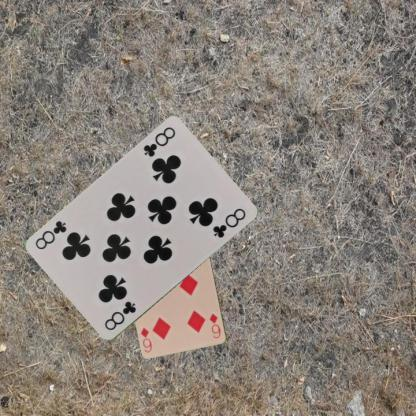6d: (207, 311, 222, 340)
8c: (101, 298, 138, 332), (140, 124, 176, 158)
